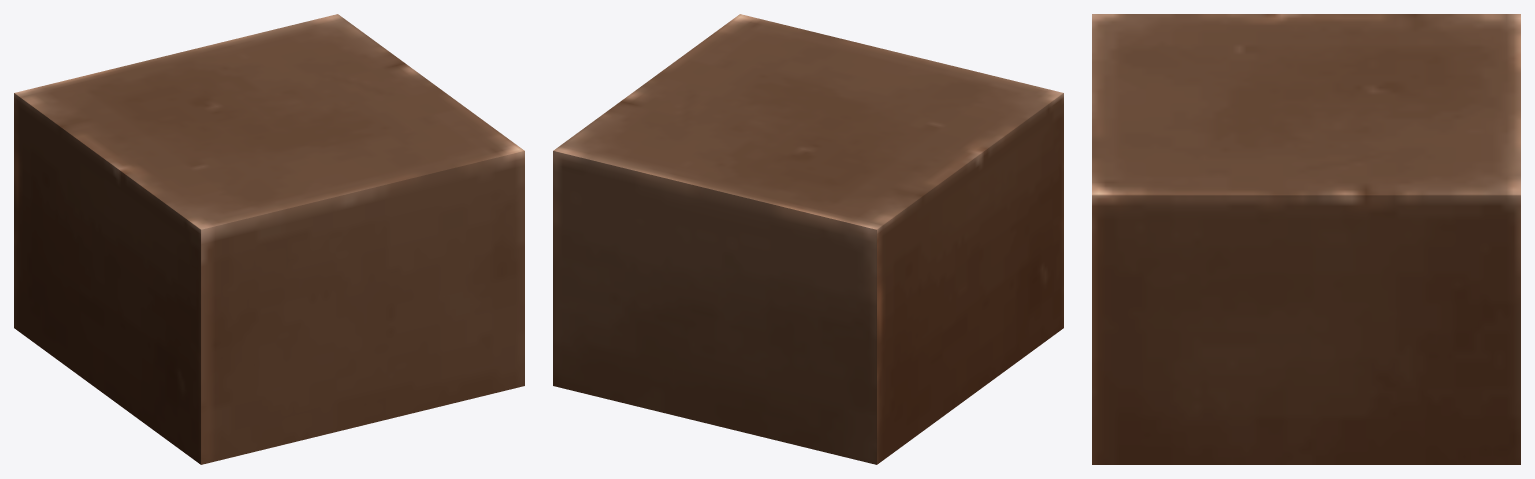
The model's file is sn_jixie_zhudi_001.FBX.
3 views of the same model, side by side, from view 1: azimuth 30°, elevation 25°; view 2: azimuth 150°, elevation 25°; view 3: azimuth 270°, elevation 25° (orthographic). The views are drawn at different scales.
Parts seen in each view (by area): view 1: sn_jixie_zhudi_001; view 2: sn_jixie_zhudi_001; view 3: sn_jixie_zhudi_001.
Part boxes in pixels (x1=…): sn_jixie_zhudi_001: x1=14, y1=14, x2=524, y2=464; sn_jixie_zhudi_001: x1=553, y1=14, x2=1063, y2=464; sn_jixie_zhudi_001: x1=1092, y1=14, x2=1520, y2=464.
Bounding box in the file's own units: 4.23 × 4.23 × 2.94.
